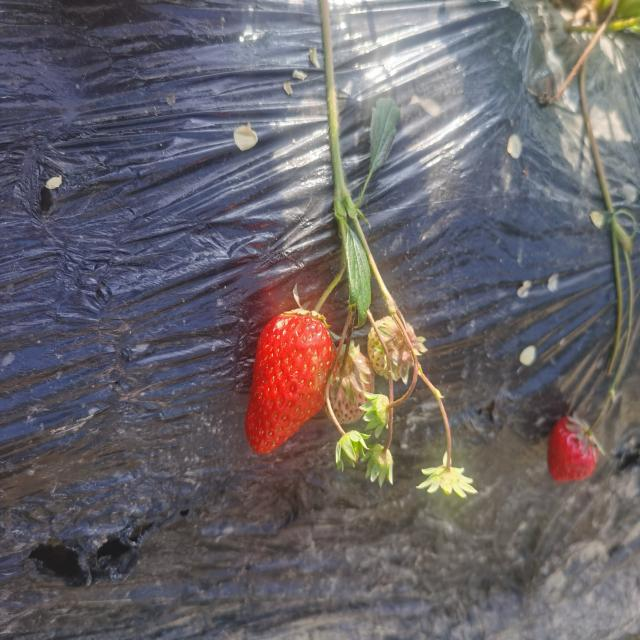stem: (311, 276, 341, 316), (584, 408, 606, 436)
strawberry: (245, 309, 335, 454), (547, 416, 599, 482)
